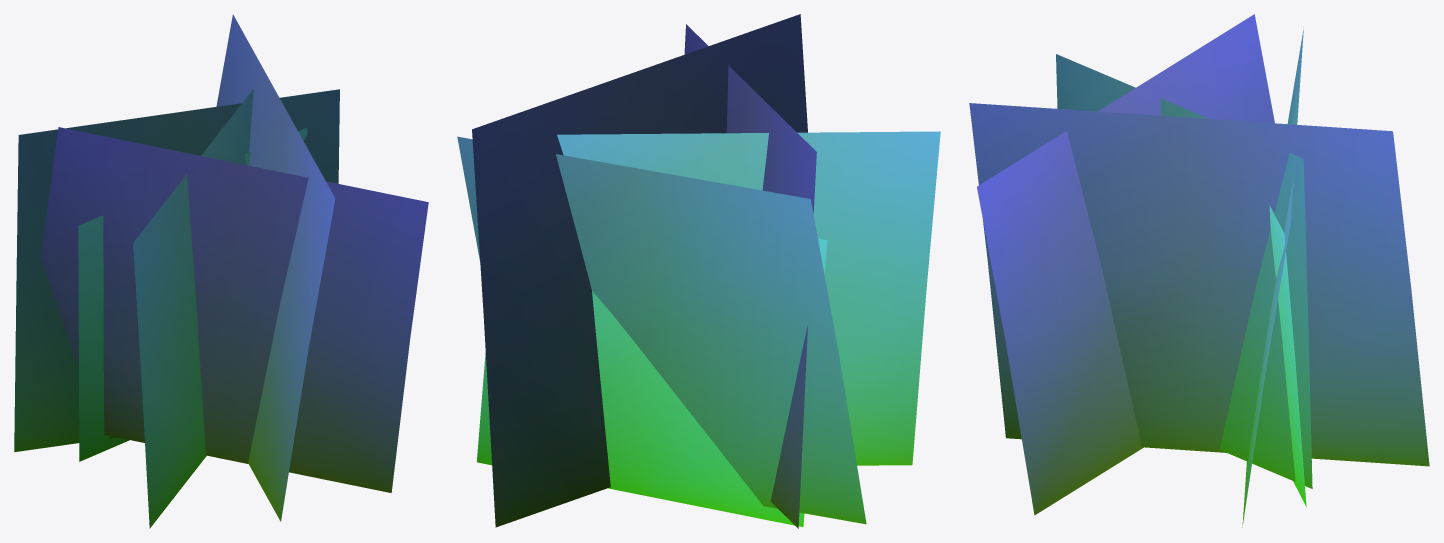
The model's file is grass_tuft_a.glb.
The picture shows the model from 3 angles, left to right: view 1: azimuth 30°, elevation 25°; view 2: azimuth 150°, elevation 25°; view 3: azimuth 270°, elevation 25°; orthographic projection. The views are drawn at different scales.
Visible parts, largest first — view 1: small_grass_tuft_a; view 2: small_grass_tuft_a; view 3: small_grass_tuft_a.
Part boxes in pixels (x1=…): small_grass_tuft_a: x1=14, y1=14, x2=428, y2=528; small_grass_tuft_a: x1=457, y1=14, x2=940, y2=528; small_grass_tuft_a: x1=969, y1=14, x2=1429, y2=527.
Size of the model in its own units: 0.3965 by 0.3954 by 0.4255.
